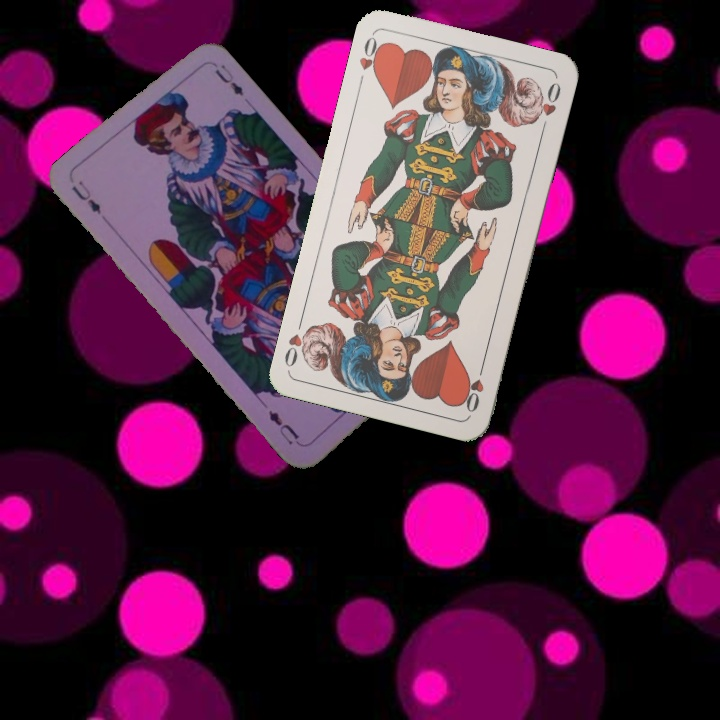EU: (67, 177, 104, 217)
HO: (460, 358, 488, 415), (355, 32, 387, 80)
